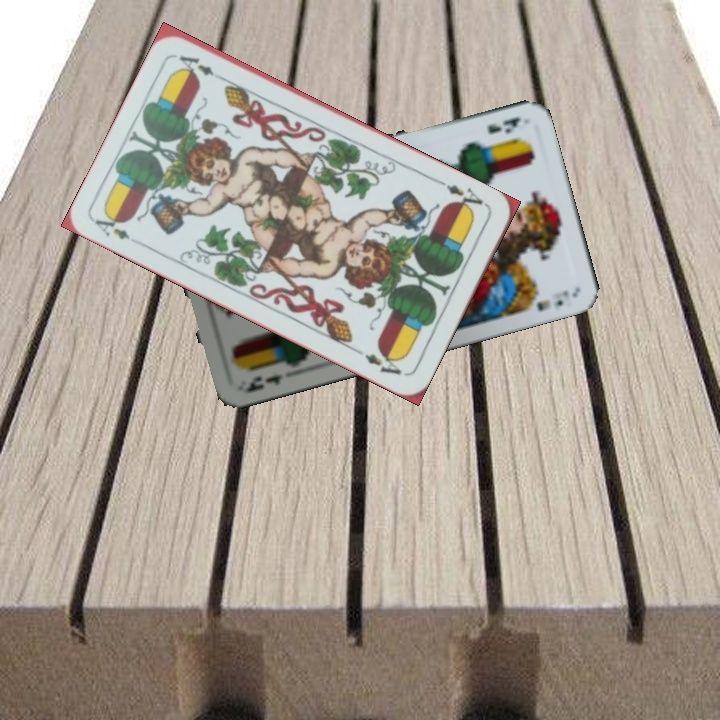EA: (435, 176, 486, 216), (90, 209, 133, 243)
EK: (238, 370, 286, 396), (483, 113, 524, 136)
